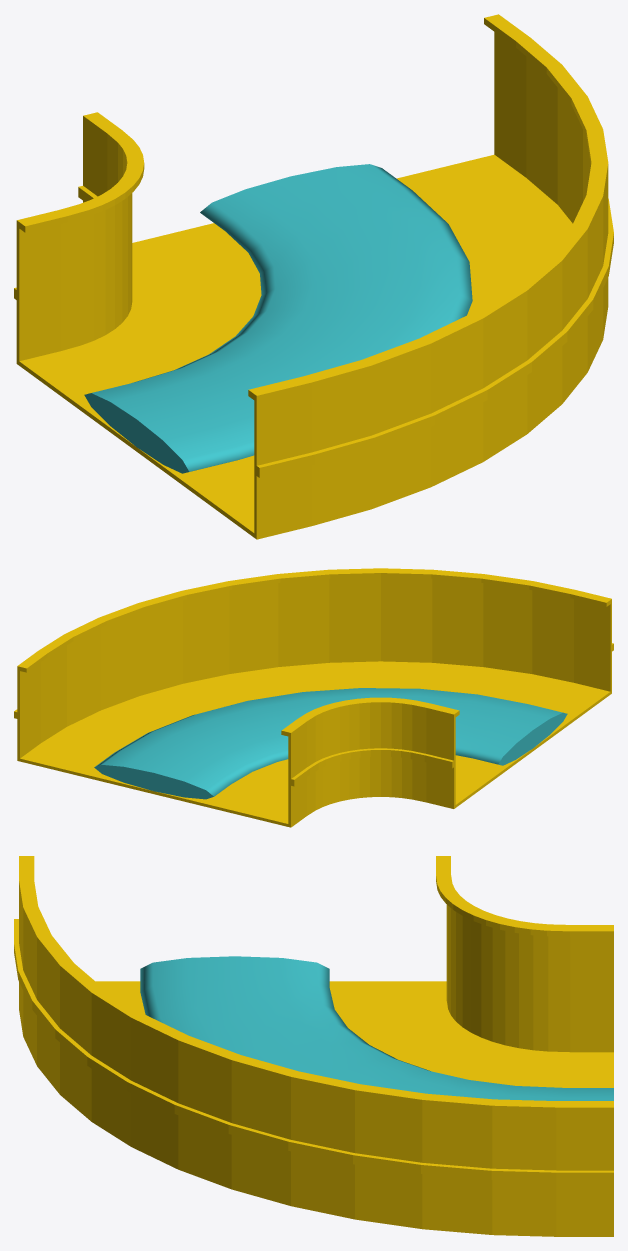
The model's file is Fiber_Elbow90.glb.
The picture shows the model from 3 angles, top to bottom: view 1: azimuth 30°, elevation 25°; view 2: azimuth 150°, elevation 25°; view 3: azimuth 270°, elevation 25°; orthographic projection. The views are drawn at different scales.
Visible parts, largest first — view 1: Channel, FLOW_fiber; view 2: Channel, FLOW_fiber; view 3: Channel, FLOW_fiber.
Part boxes in pixels (x1,y1,x2,y2): Channel: (14,14,613,539); FLOW_fiber: (84,164,472,473); Channel: (14,568,613,827); FLOW_fiber: (94,688,567,799); Channel: (14,856,613,1236); FLOW_fiber: (140,956,613,1100).
Size of the model in its own units: 0.475 by 0.113 by 0.475.
